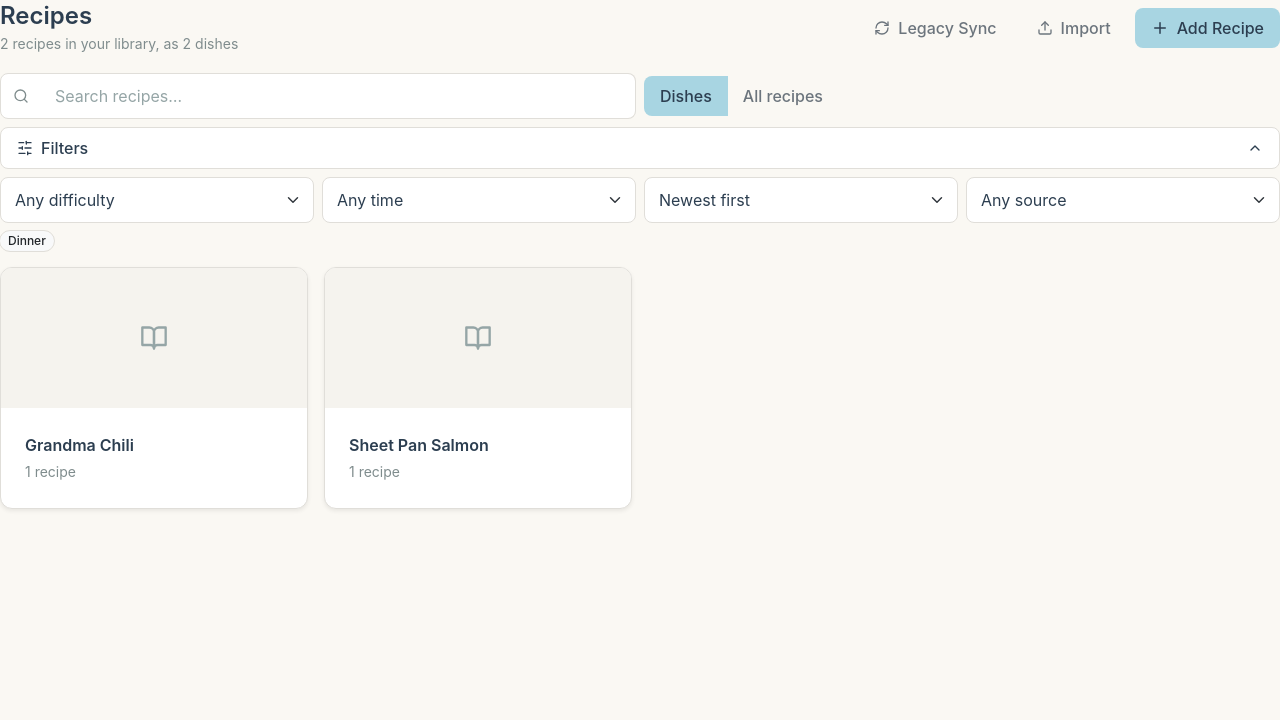
Scenario: Recipes page — deleting › explains a refused delete instead of failing quietly
Click the button "All recipes" at (783, 96), box [727,76,839,116]
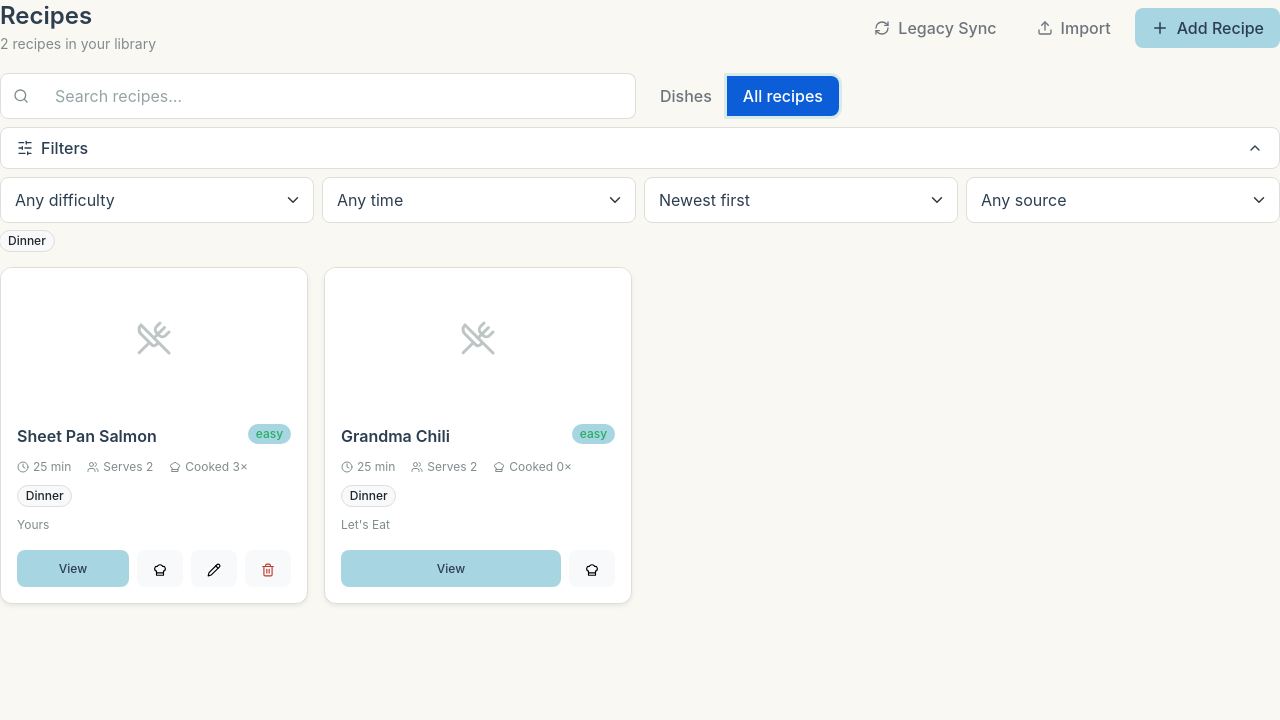
Click the button named "Delete Sheet Pan Salmon" at (268, 569), box [245,550,291,587]
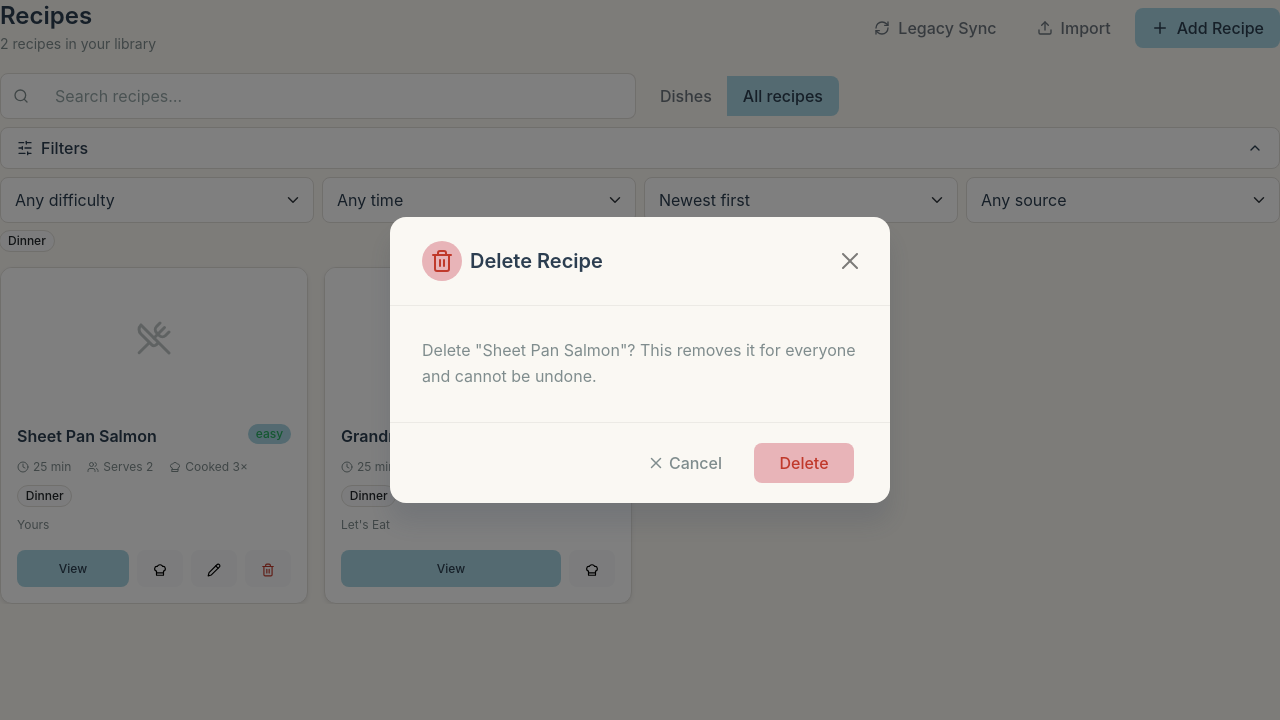
Click the button "Delete" at (804, 463), box [754,443,854,483]
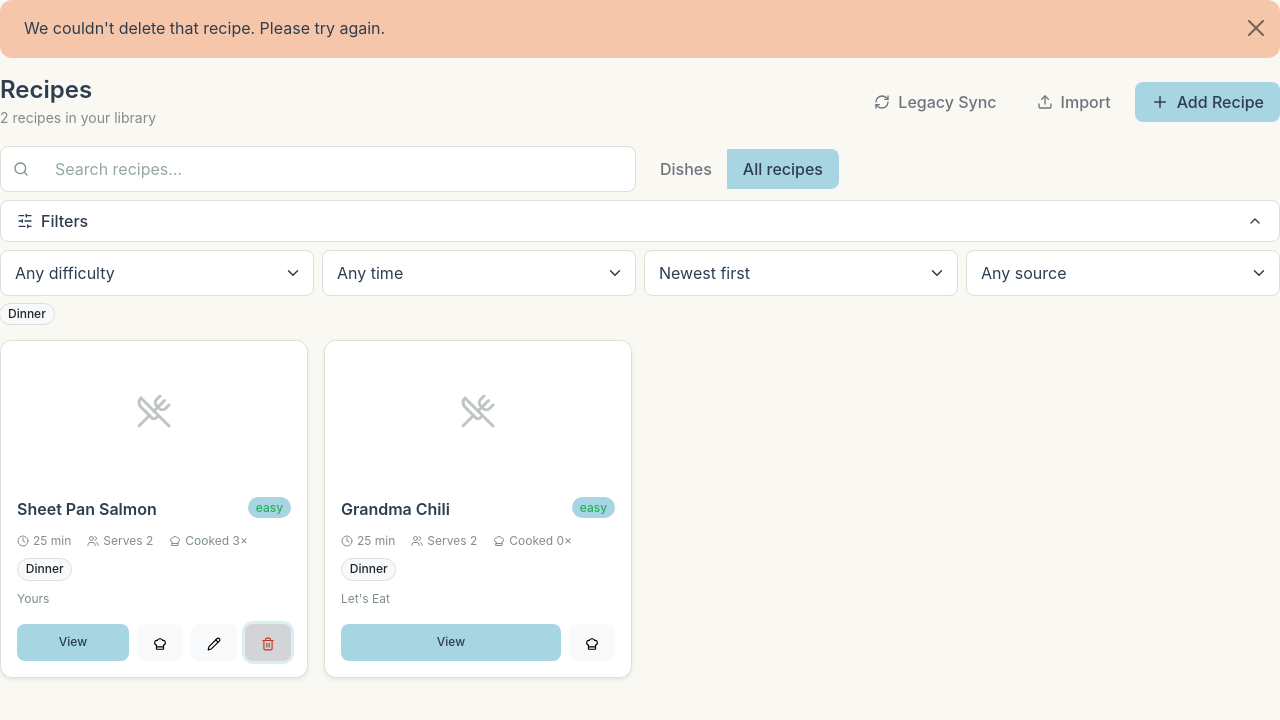
Expected: the text "We couldn't delete that recipe. Please try again." is shown, [0,0,1279,58]
